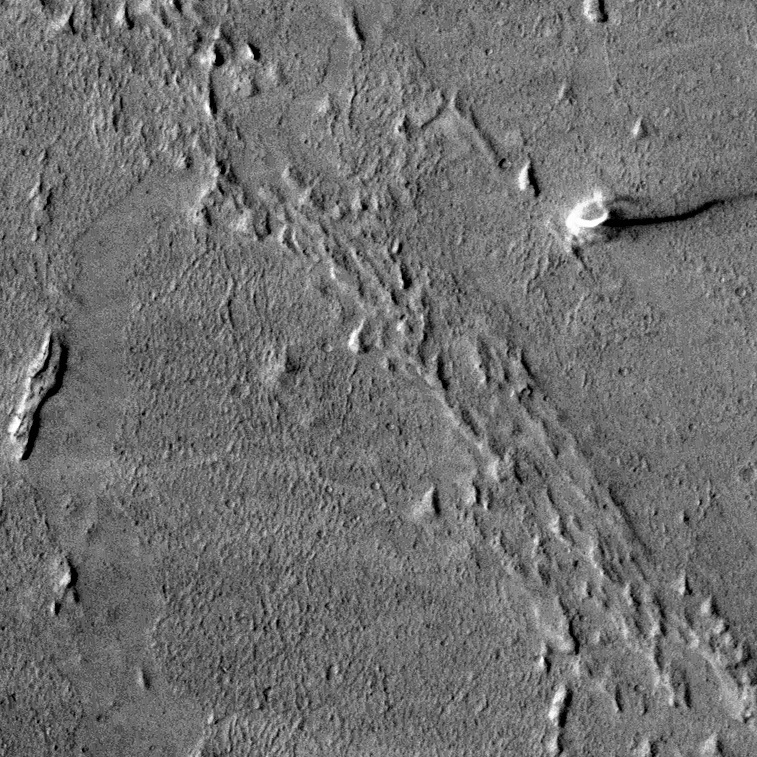dust_devil: (564, 189, 751, 238)
